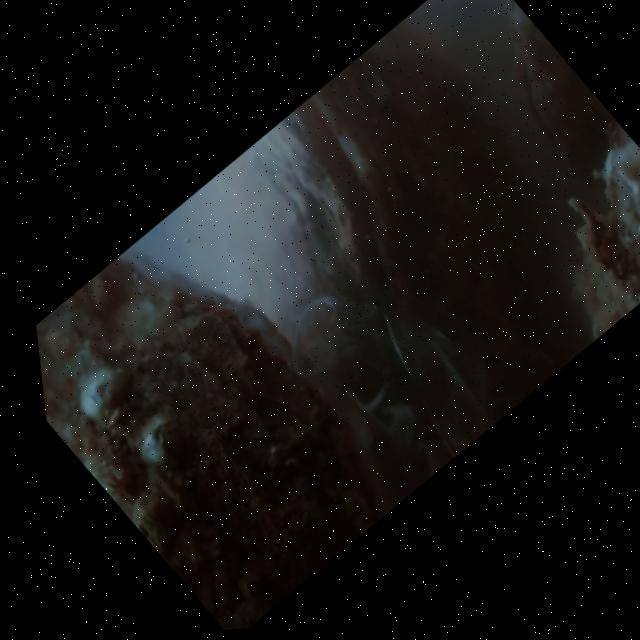Oyster-Closed: (226, 28, 579, 440), (504, 0, 605, 174)
Oyster-Indeterminate: (37, 244, 376, 629)
